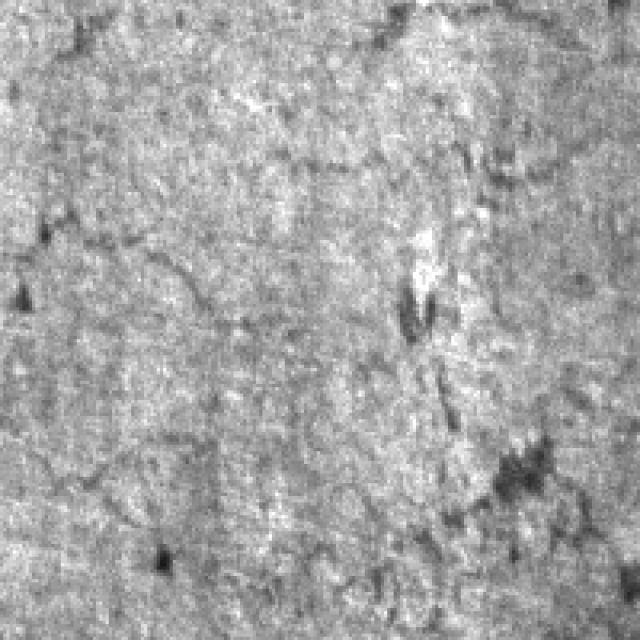crazing: (29, 410, 637, 618), (256, 0, 637, 182), (6, 195, 320, 336)
